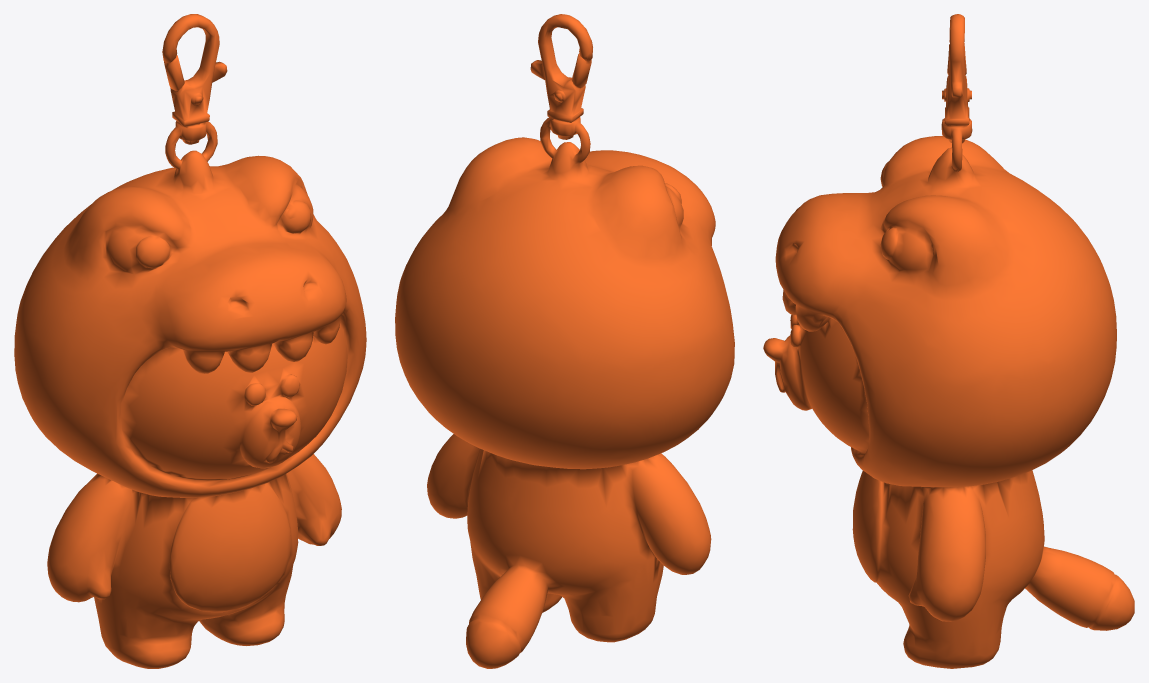
File: Charm_1.glb
3 views of the same model, side by side, from view 1: azimuth 30°, elevation 25°; view 2: azimuth 150°, elevation 25°; view 3: azimuth 270°, elevation 25° (orthographic). The views are drawn at different scales.
Parts seen in each view (by area): view 1: 娃娃吊飾1; view 2: 娃娃吊飾1; view 3: 娃娃吊飾1.
Part boxes in pixels (x1=…): 娃娃吊飾1: x1=14, y1=14, x2=366, y2=668; 娃娃吊飾1: x1=395, y1=14, x2=734, y2=668; 娃娃吊飾1: x1=763, y1=14, x2=1134, y2=668.
Bounding box in the file's own units: 0.0257 × 0.049 × 0.0266.
